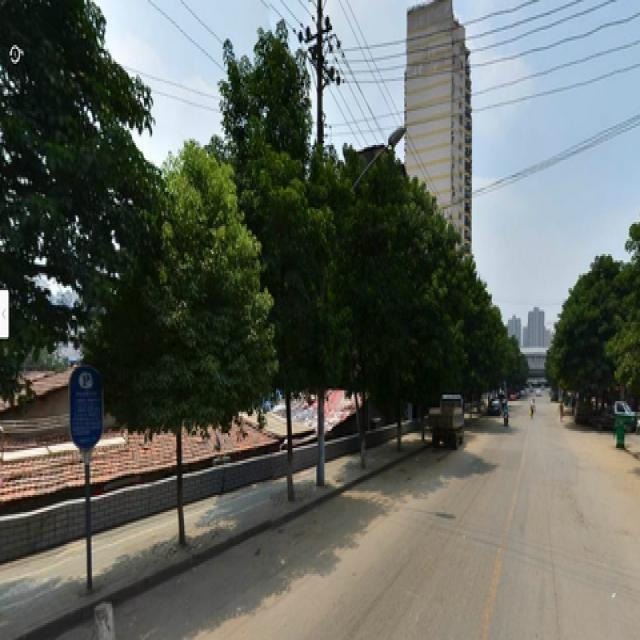cinn: (236, 70, 328, 500), (149, 158, 236, 542)
